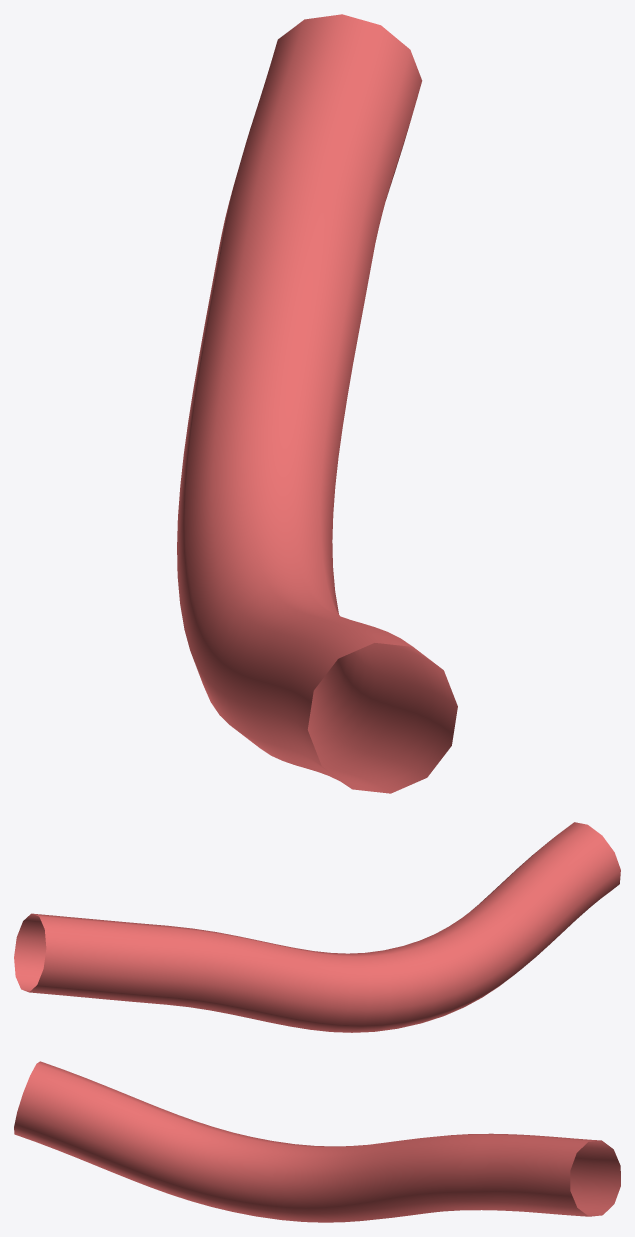
The model's file is Posterior_communicating_artery.r_BezierCurve.354.glb.
3 renders of one model, top to bottom at view 1: azimuth 30°, elevation 25°; view 2: azimuth 150°, elevation 25°; view 3: azimuth 270°, elevation 25°, orthographic. The views are drawn at different scales.
Parts seen in each view (by area): view 1: Posterior_communicating_artery.r_BezierCurve.354; view 2: Posterior_communicating_artery.r_BezierCurve.354; view 3: Posterior_communicating_artery.r_BezierCurve.354.
Boxes of the visible parts, x1,y1,x2,y2 form: Posterior_communicating_artery.r_BezierCurve.354: (177,14,457,793); Posterior_communicating_artery.r_BezierCurve.354: (14,822,620,1032); Posterior_communicating_artery.r_BezierCurve.354: (14,1061,620,1222).
Size of the model in its own units: 0.00721 by 0.00363 by 0.0117.
